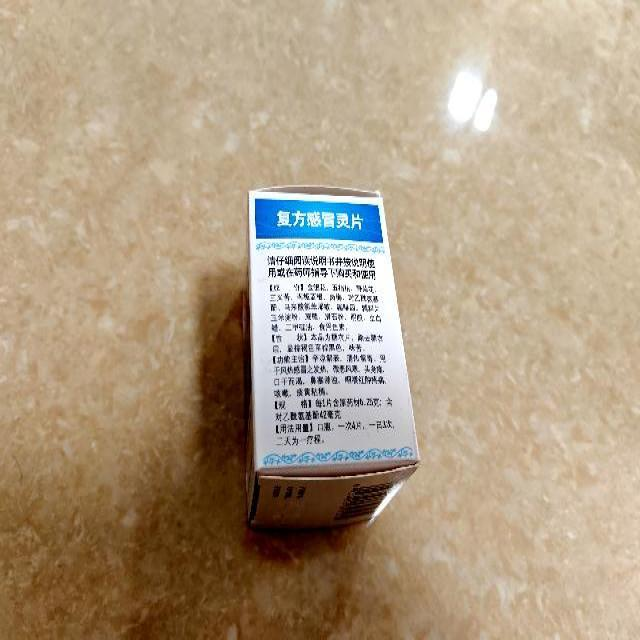box: (241, 182, 419, 527)
